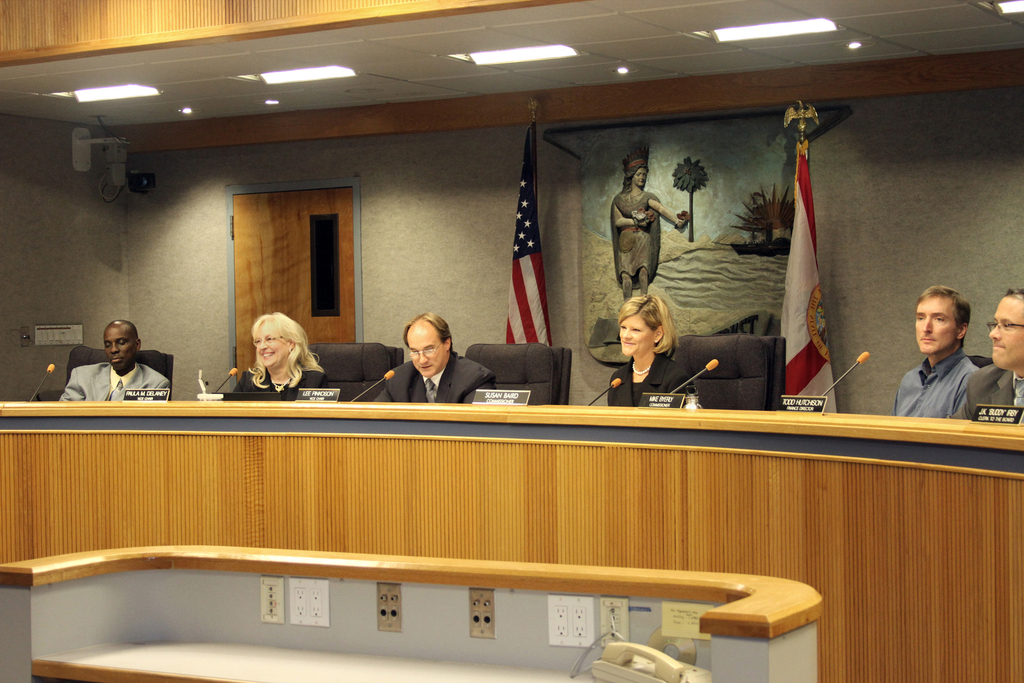Person: (612, 151, 685, 299), (608, 294, 694, 405), (230, 311, 329, 399)
